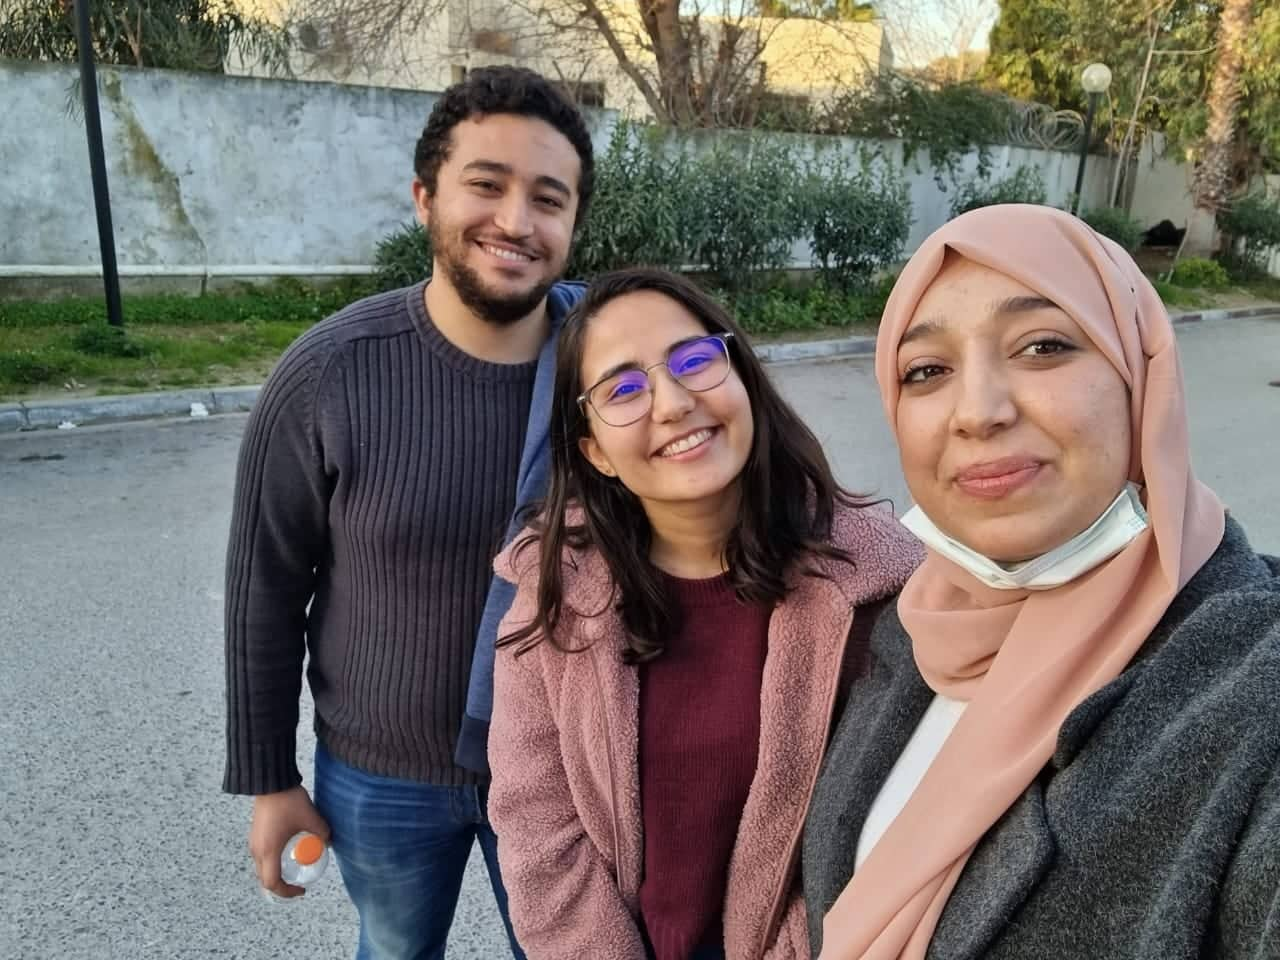mask_weared_incorrect: (898, 275, 1138, 582)
without_mask: (596, 332, 746, 499), (437, 151, 576, 302)
